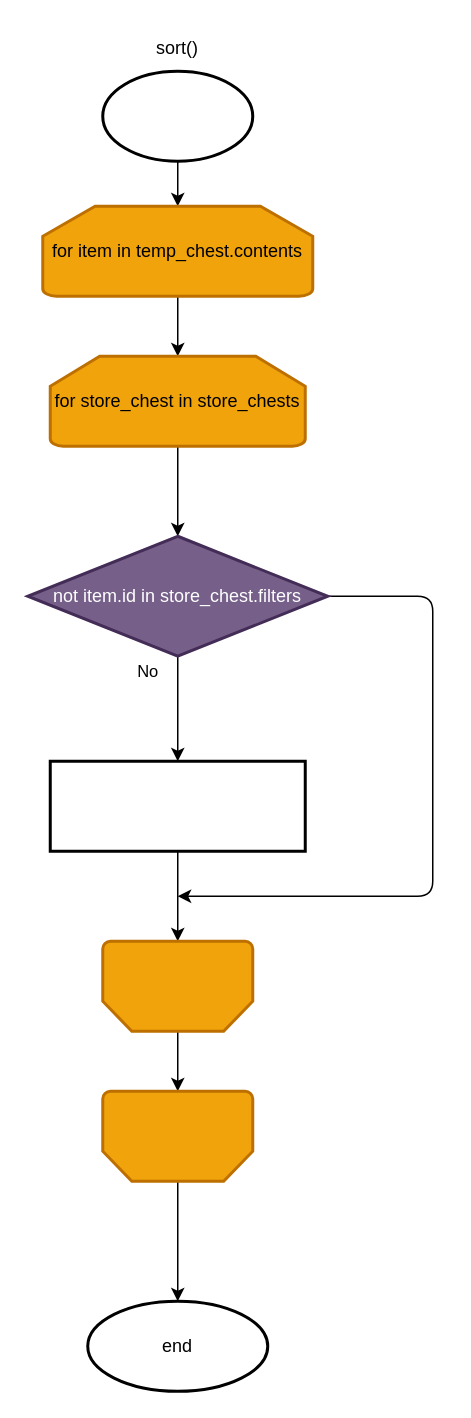
This 471x1418 diagram has some shape labels left out. Here are the shapes that lost their labels. From the top down, the box of each, then its label:
(100, 69, 254, 162): start
(48, 759, 306, 852): put_item(item, store_chest)
